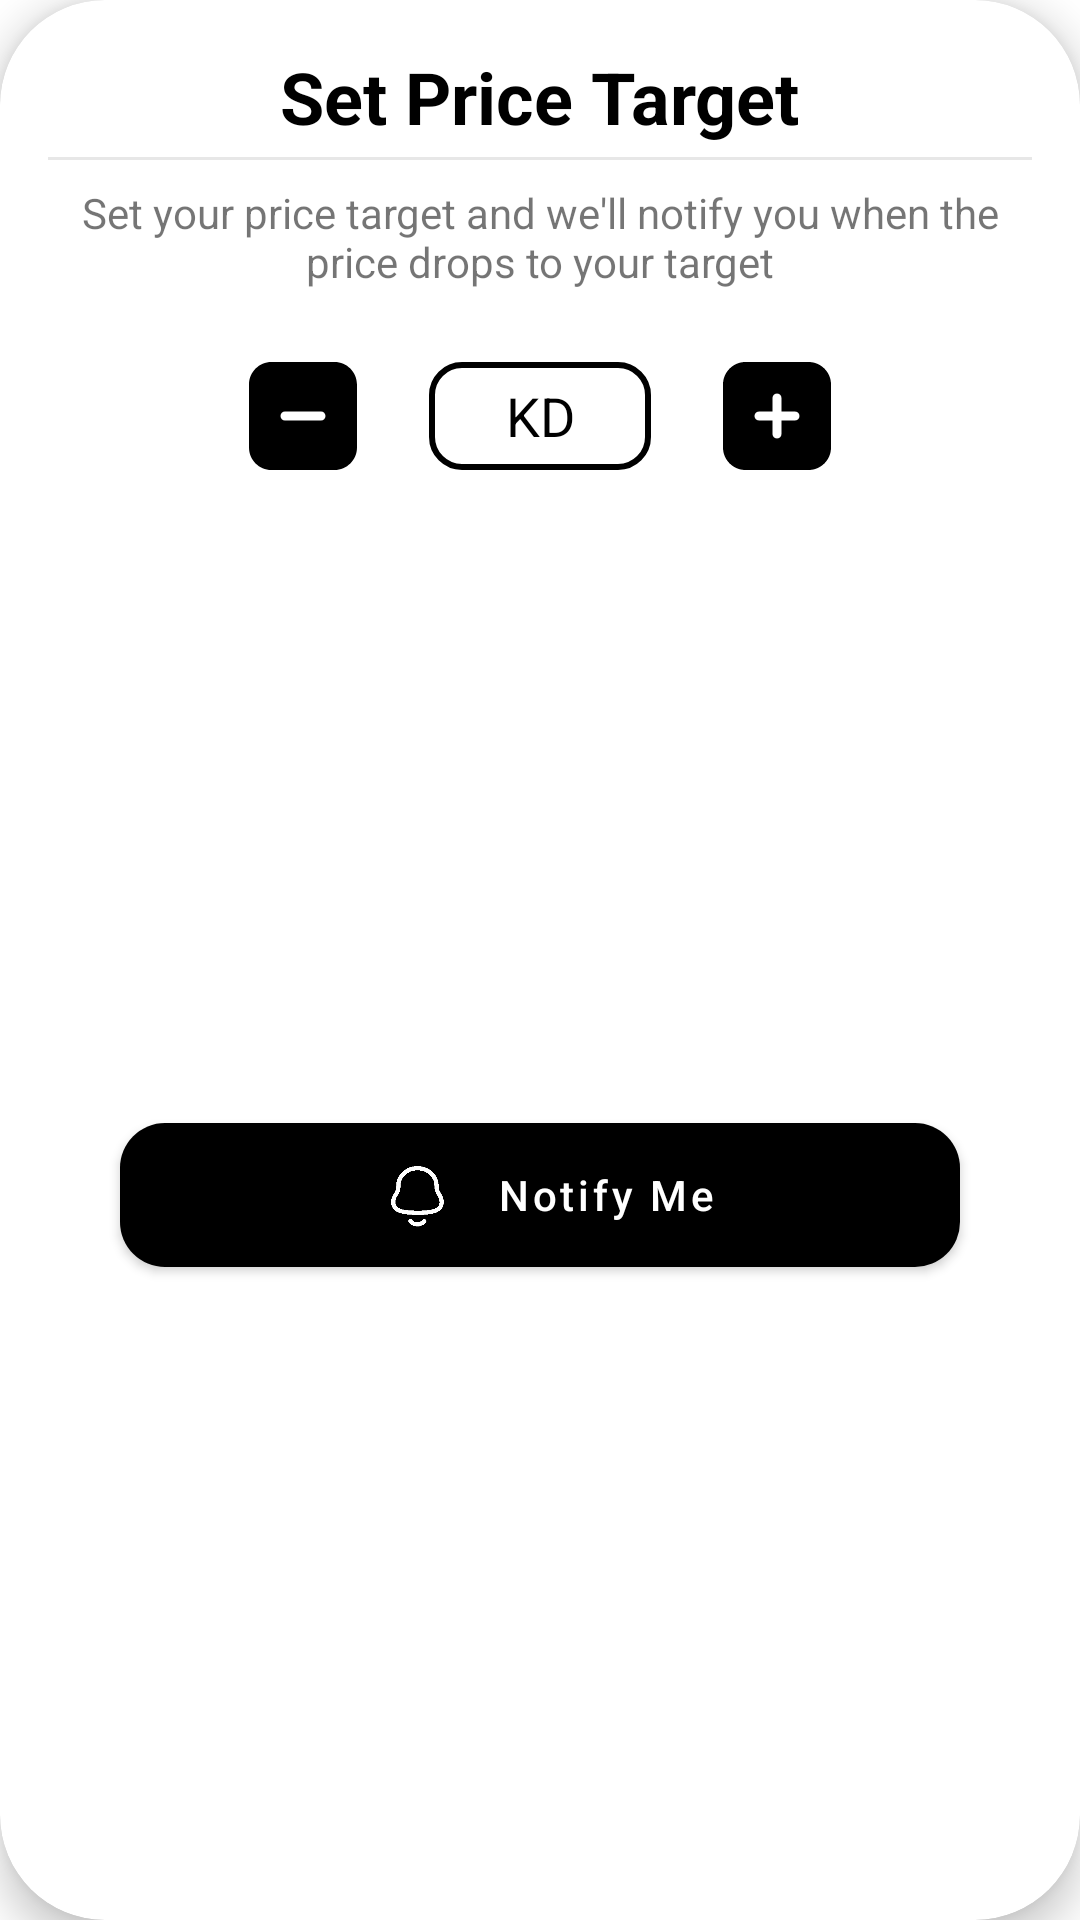

Icon bounding boxes for this 1080w x 1920h phone screenshot, format detection(x1, y1, x2, y2):
minus: detection(249, 362, 357, 470)
plus: detection(723, 362, 831, 470)
